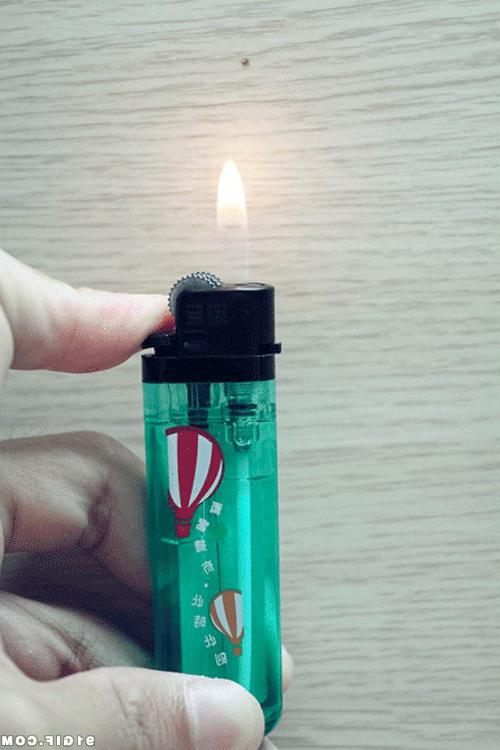fire: (196, 140, 280, 310)
